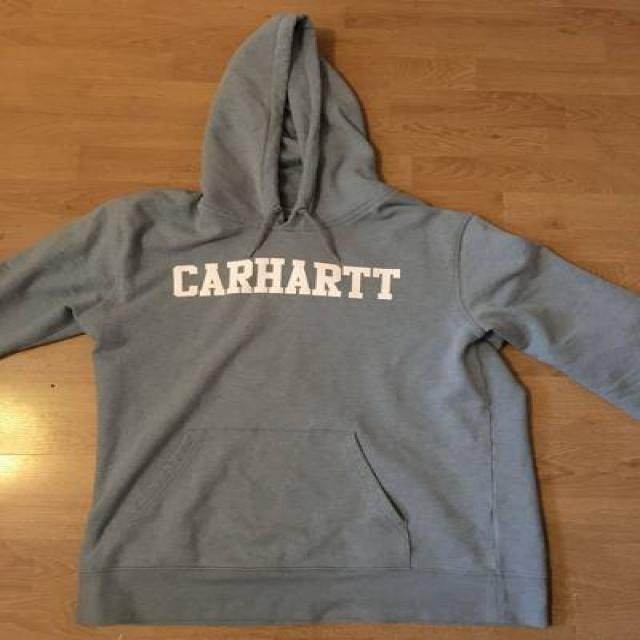Clothes -Biodegradable-: (0, 12, 640, 636)
